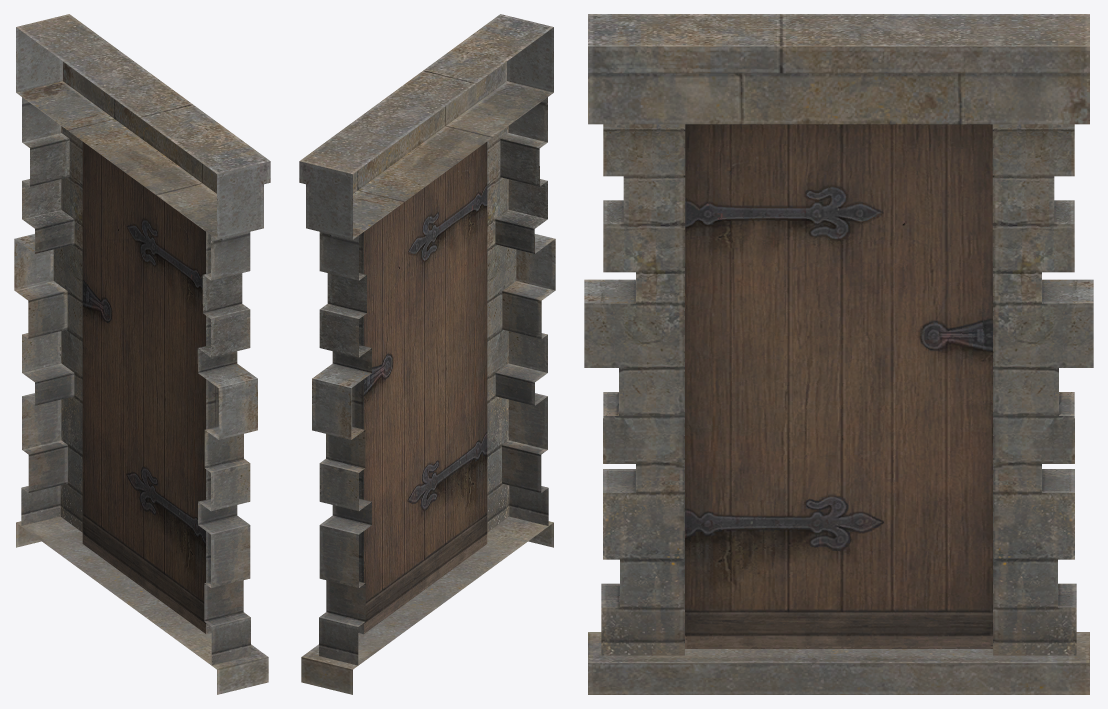
Rendered from bg_lut_lucastle_housecommondoor03_sm_sup.FBX.
3 renders of one model, left to right at view 1: azimuth 30°, elevation 25°; view 2: azimuth 150°, elevation 25°; view 3: azimuth 270°, elevation 25°, orthographic. The views are drawn at different scales.
Parts seen in each view (by area): view 1: bg_lut_lucastle_housecommondoor03_sm_sup; view 2: bg_lut_lucastle_housecommondoor03_sm_sup; view 3: bg_lut_lucastle_housecommondoor03_sm_sup.
Part boxes in pixels (<box>): bg_lut_lucastle_housecommondoor03_sm_sup: <box>14,14,270,694</box>; bg_lut_lucastle_housecommondoor03_sm_sup: <box>299,14,555,694</box>; bg_lut_lucastle_housecommondoor03_sm_sup: <box>584,14,1093,694</box>.
Bounding box in the file's own units: 19.76 × 184 × 131.
